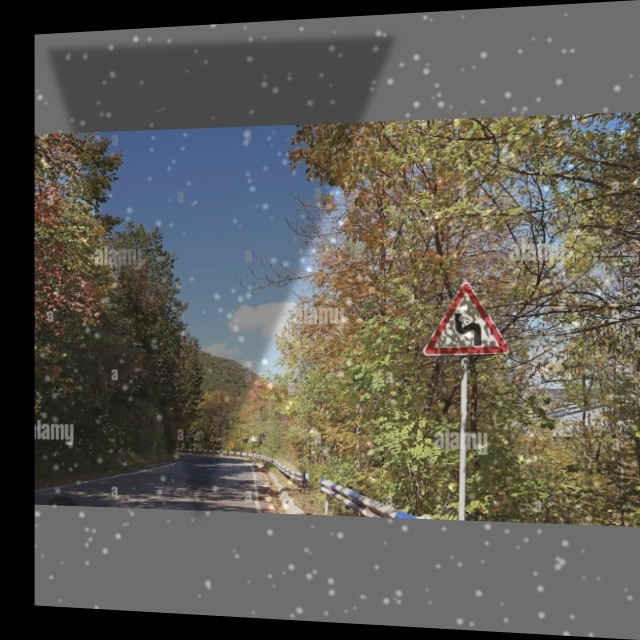Left_Reverse_Bend: (422, 278, 508, 361)
